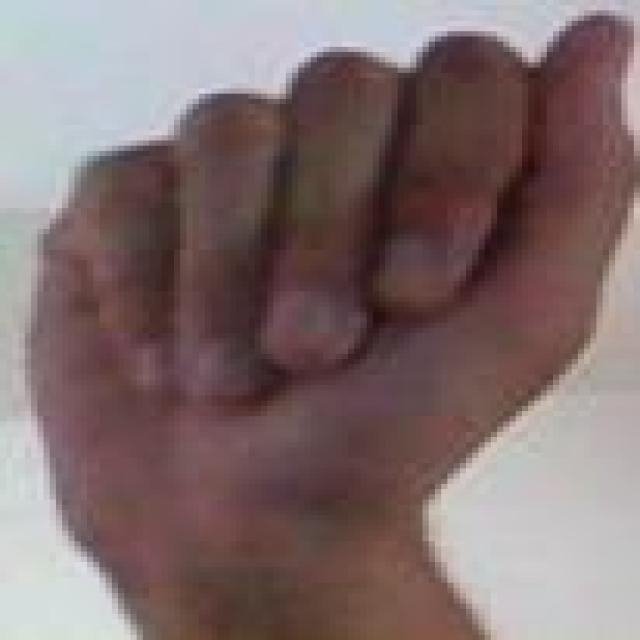A: (3, 3, 638, 638)
